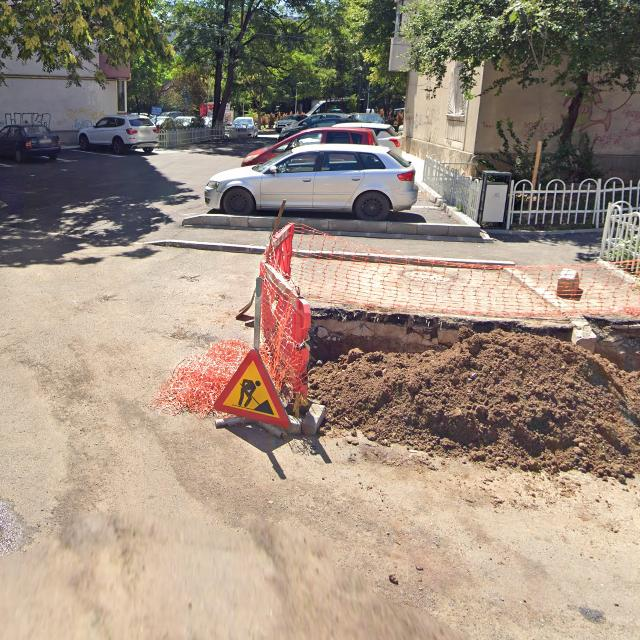warn_construction: (213, 348, 291, 428)
